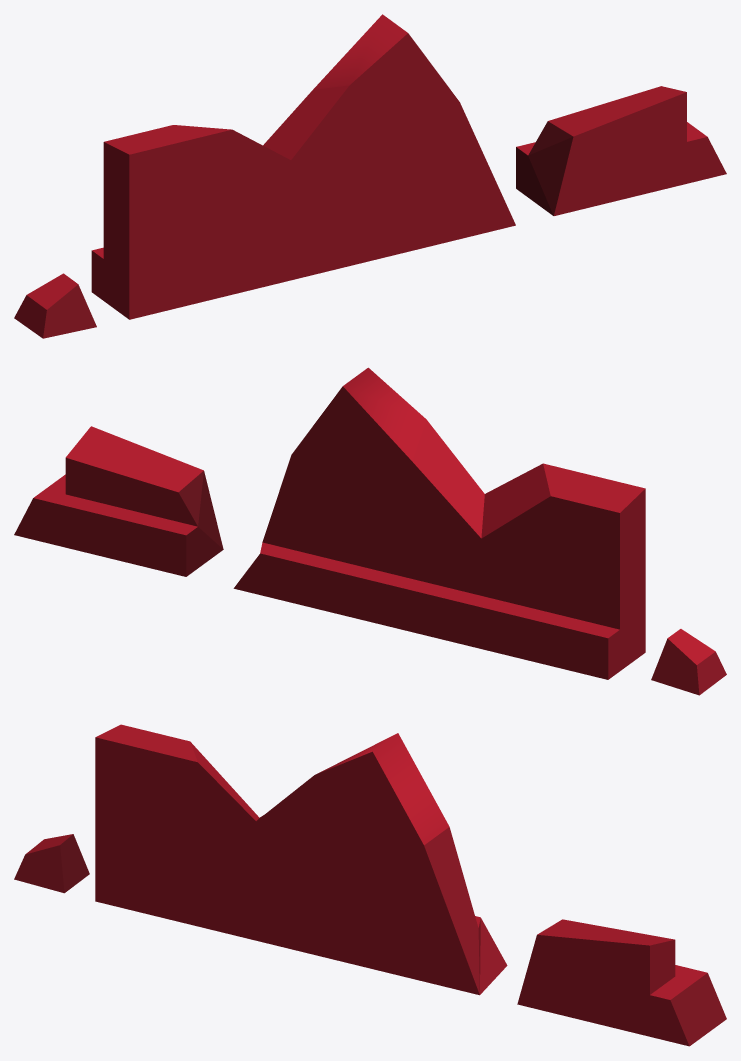
File: wall_damaged_03.fbx
3 renders of one model, top to bottom at view 1: azimuth 30°, elevation 25°; view 2: azimuth 150°, elevation 25°; view 3: azimuth 330°, elevation 25°, orthographic.
Parts seen in each view (by area): view 1: wall_damaged_03; view 2: wall_damaged_03; view 3: wall_damaged_03.
Part boxes in pixels (x1,y1,x2,y2): wall_damaged_03: [14, 14, 726, 338]; wall_damaged_03: [14, 367, 726, 695]; wall_damaged_03: [14, 724, 726, 1046].
Bounding box in the file's own units: 252 × 77.17 × 24.04.
